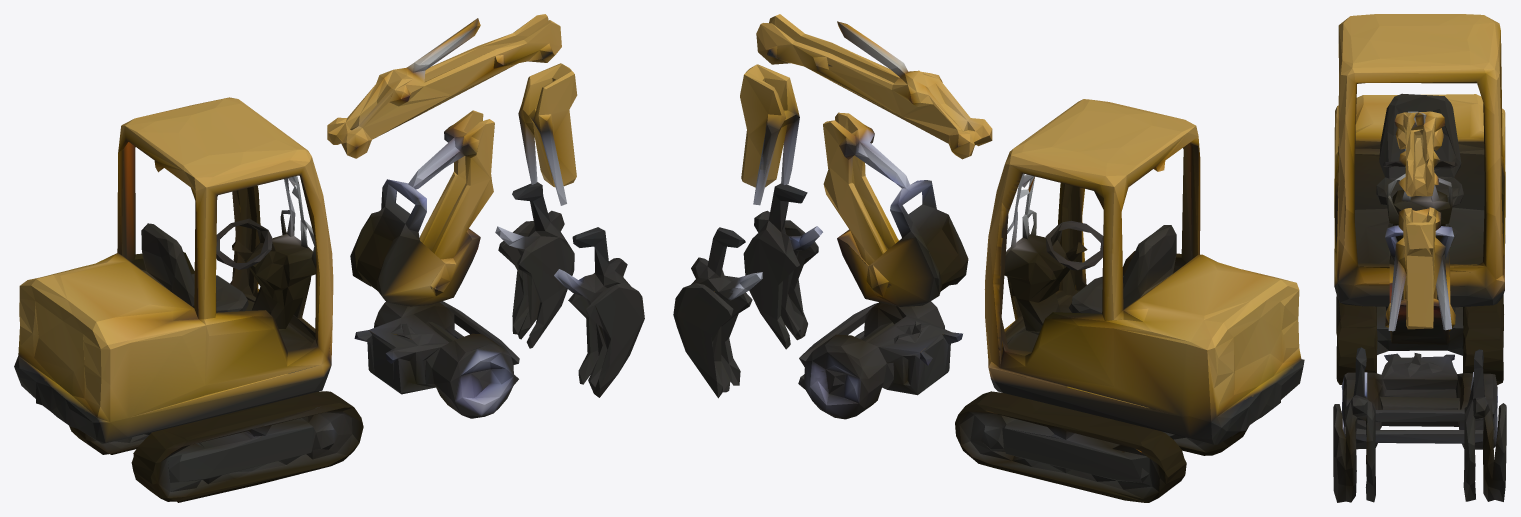
File: 挖掘机分部件4000面.fbx
3 views of the same model, side by side, from view 1: azimuth 30°, elevation 25°; view 2: azimuth 150°, elevation 25°; view 3: azimuth 270°, elevation 25° (orthographic). The views are drawn at different scales.
Parts seen in each view (by area): view 1: mesh_uv.obj; view 2: mesh_uv.obj; view 3: mesh_uv.obj.
Boxes of the visible parts, x1,y1,x2,y2 form: mesh_uv.obj: [14, 14, 644, 502]; mesh_uv.obj: [673, 14, 1304, 502]; mesh_uv.obj: [1333, 14, 1506, 502].
Bounding box in the file's own units: 108 × 69.32 × 30.65.
Materials: 1 (1 with a texture image).
